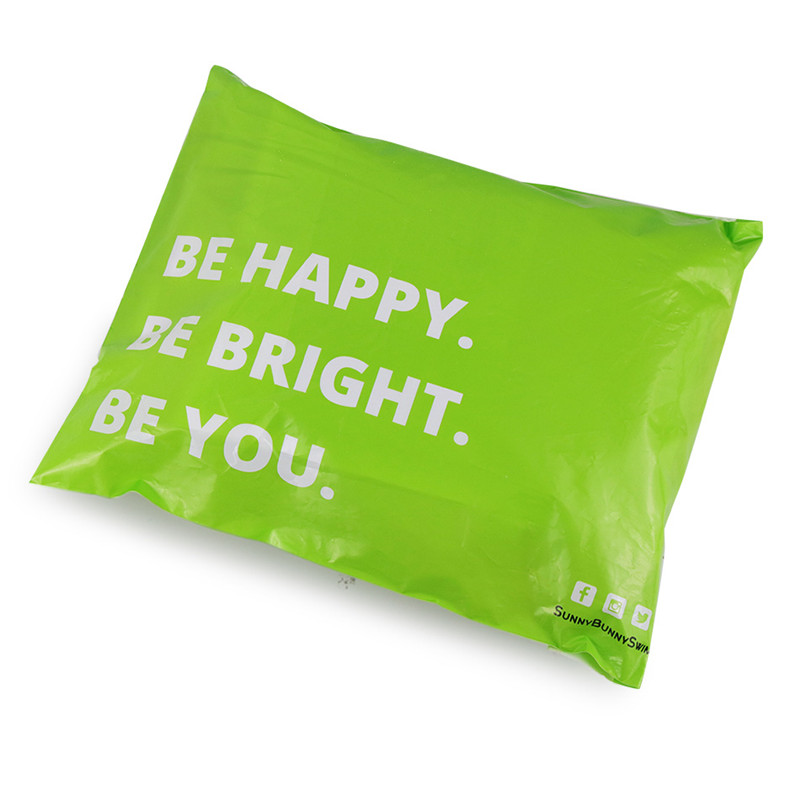塑料袋: (32, 66, 761, 688)
